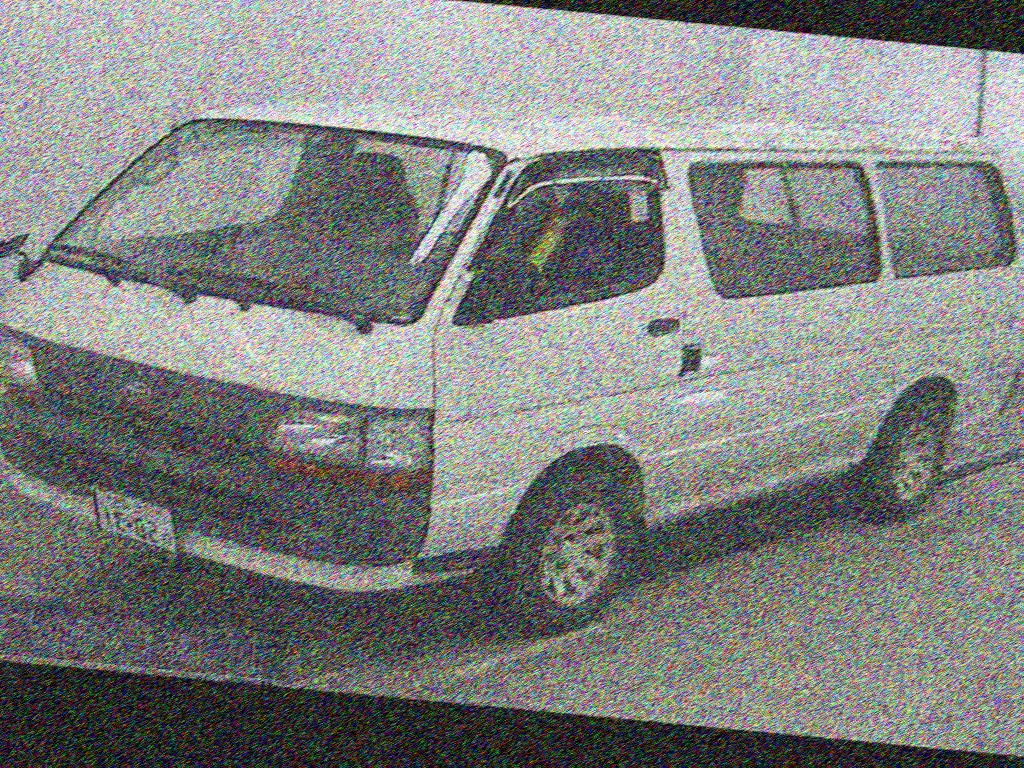van: (0, 26, 1024, 673)
